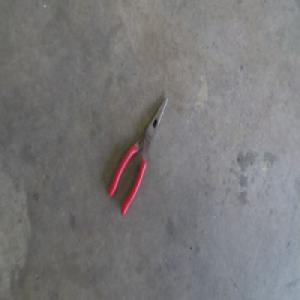Pliers: (108, 95, 169, 215)
